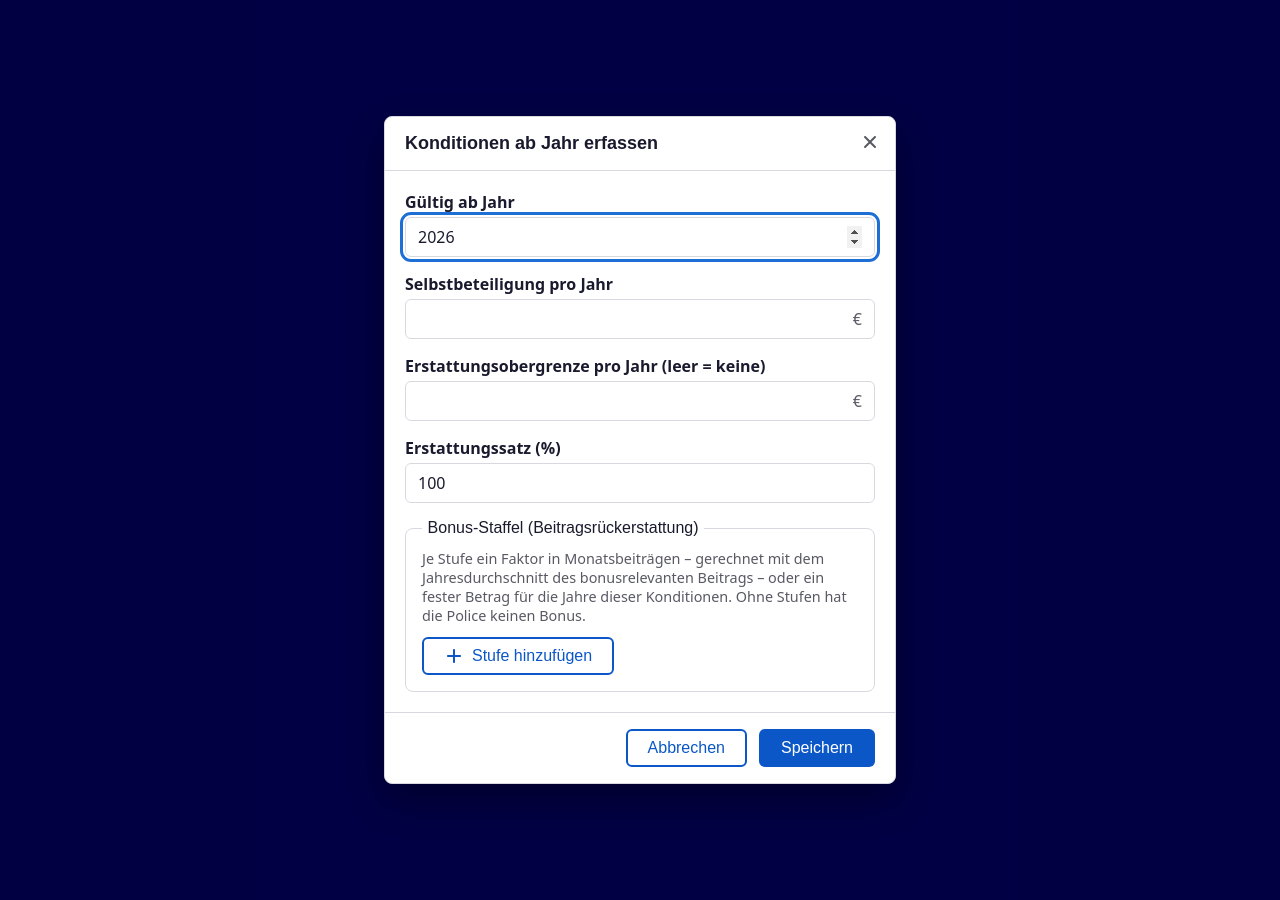
Test: TermsFormDialog: steps as a factor of the monthly premium (Slice 76) › starts a scale with factor steps when there is none yet
The width and height of the screenshot is (1280, 900).
Click the button "Stufe hinzufügen": {"x": 518, "y": 656} top-left (422, 637), bottom-right (614, 675)
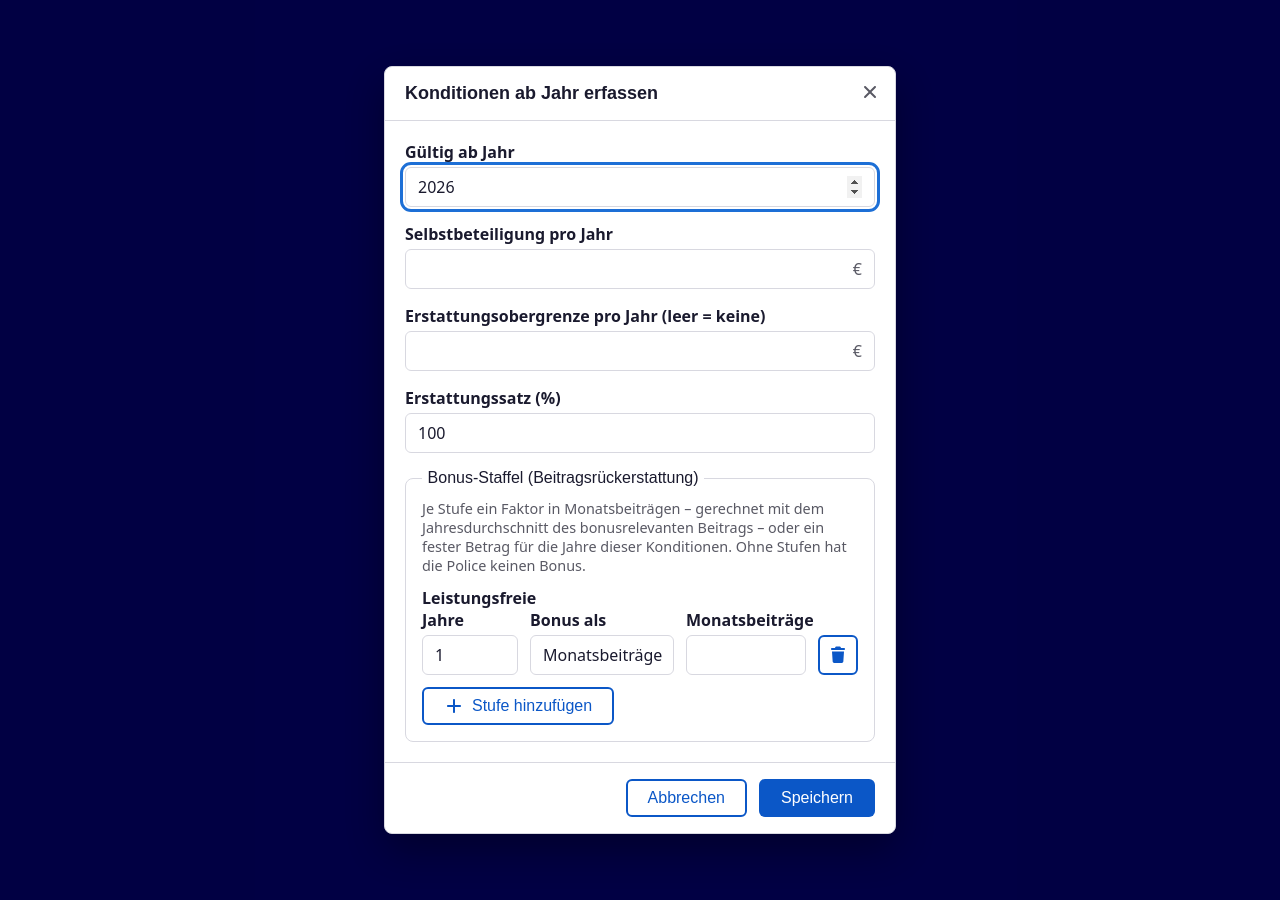
Check: the element showing "Monatsbeiträge" is shown, box top-left (686, 609), bottom-right (806, 675)
